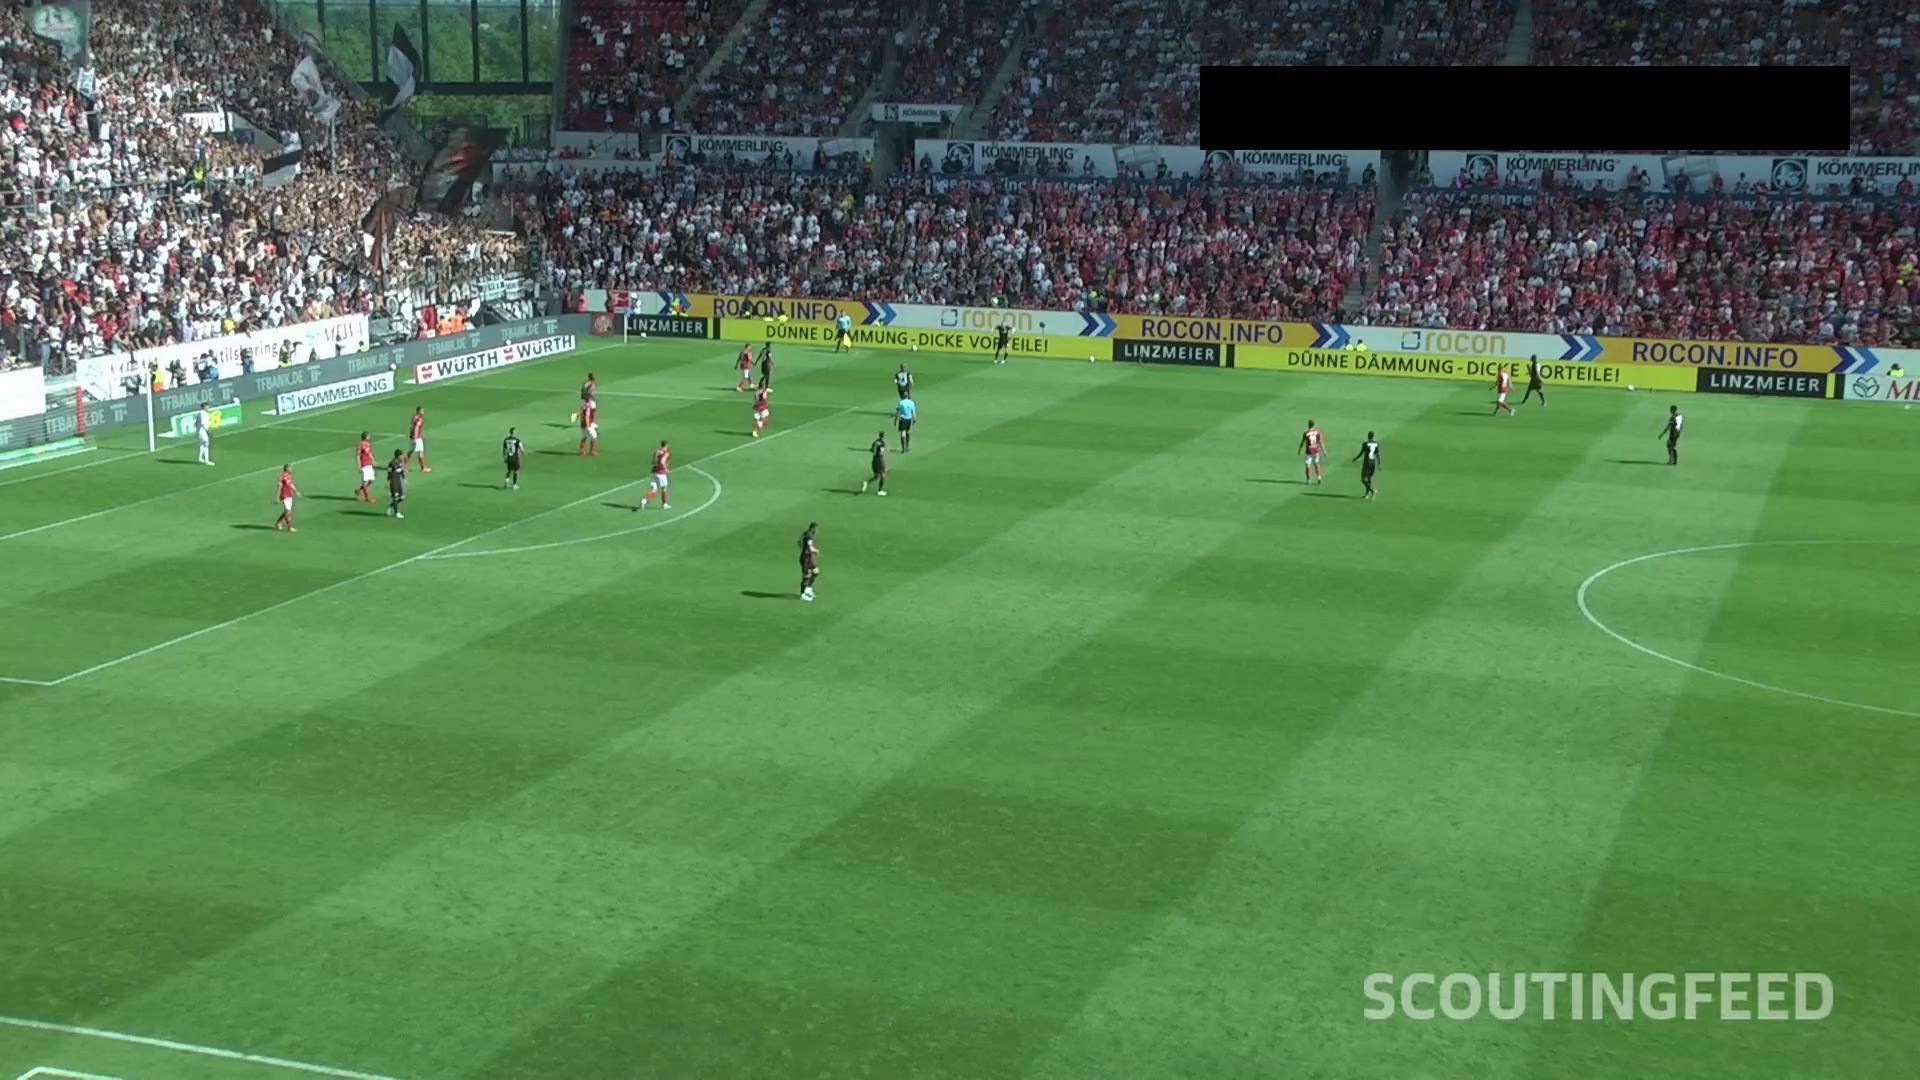Location-of-ball: (980, 291, 1009, 310)
